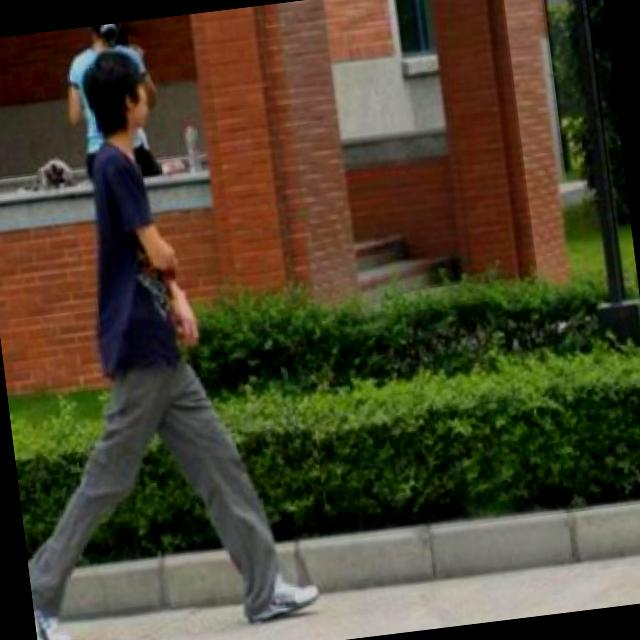Person: (0, 21, 324, 640)
